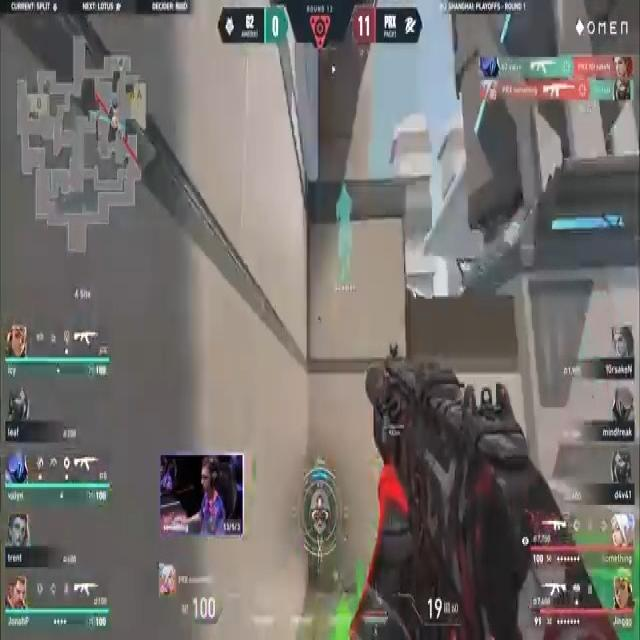ally behind wall: (332, 182, 358, 292)
